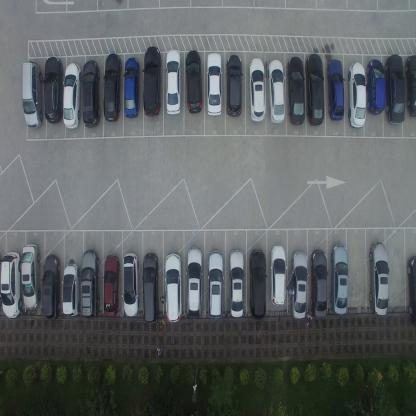car: (368, 242, 389, 317), (21, 59, 43, 129), (384, 52, 405, 124), (305, 53, 325, 128), (0, 250, 21, 319), (20, 242, 40, 312), (248, 249, 267, 321), (330, 244, 349, 315), (80, 249, 99, 320), (82, 59, 101, 129), (41, 252, 60, 321), (62, 61, 81, 130), (43, 55, 62, 124), (143, 46, 161, 118), (103, 51, 121, 123), (310, 249, 328, 320), (164, 251, 182, 322), (287, 56, 305, 126), (348, 60, 366, 130), (185, 246, 202, 318), (142, 250, 158, 325), (248, 57, 266, 123), (184, 49, 202, 114), (290, 251, 307, 319), (326, 58, 344, 122), (122, 251, 139, 318), (208, 249, 224, 320), (225, 54, 242, 118), (123, 55, 140, 119), (103, 253, 119, 320), (165, 48, 181, 115), (229, 247, 244, 318), (367, 58, 386, 114), (268, 60, 284, 125), (206, 52, 222, 116), (270, 245, 286, 305), (62, 262, 79, 318), (406, 255, 416, 325), (406, 52, 415, 117)
